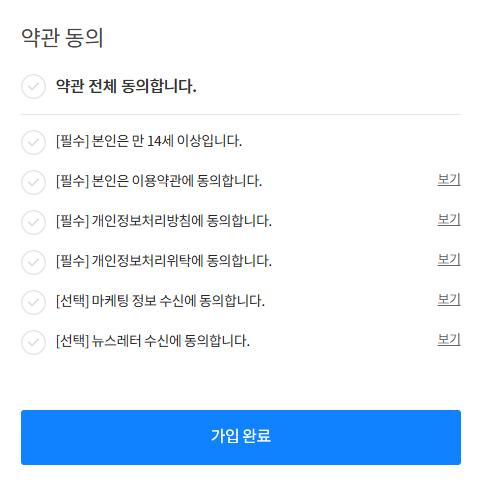button: (21, 411, 462, 467), (439, 254, 470, 277), (439, 289, 466, 309), (439, 325, 464, 344), (429, 209, 459, 223), (434, 174, 459, 187)
checkbox: (21, 284, 271, 315), (16, 251, 273, 271), (19, 328, 259, 349), (19, 171, 264, 189), (26, 132, 256, 151), (25, 213, 272, 228), (23, 78, 198, 96)
